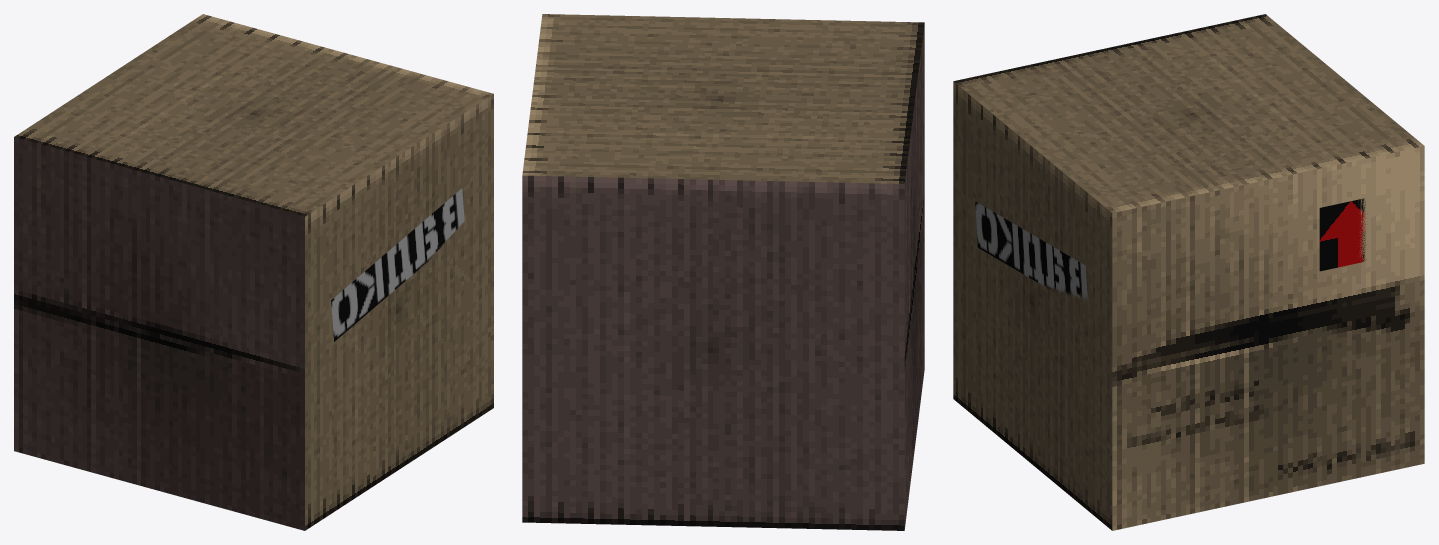
Rendered from primary_037.glb.
3 views of the same model, side by side, from view 1: azimuth 30°, elevation 25°; view 2: azimuth 150°, elevation 25°; view 3: azimuth 270°, elevation 25° (orthographic). The views are drawn at different scales.
Parts seen in each view (by area): view 1: Object; view 2: Object; view 3: Object.
Boxes of the visible parts, x1,y1,x2,y2 form: Object: (14,14,493,530); Object: (522,14,924,530); Object: (953,14,1424,530).
Size of the model in its own units: 1.28 by 0.9501 by 1.28.
8 materials, 8 textured.
